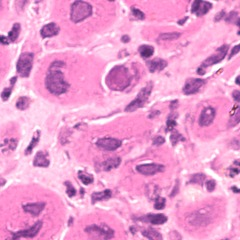New: (29, 48, 113, 104), (1, 182, 67, 240), (43, 1, 120, 48), (62, 208, 129, 240)
